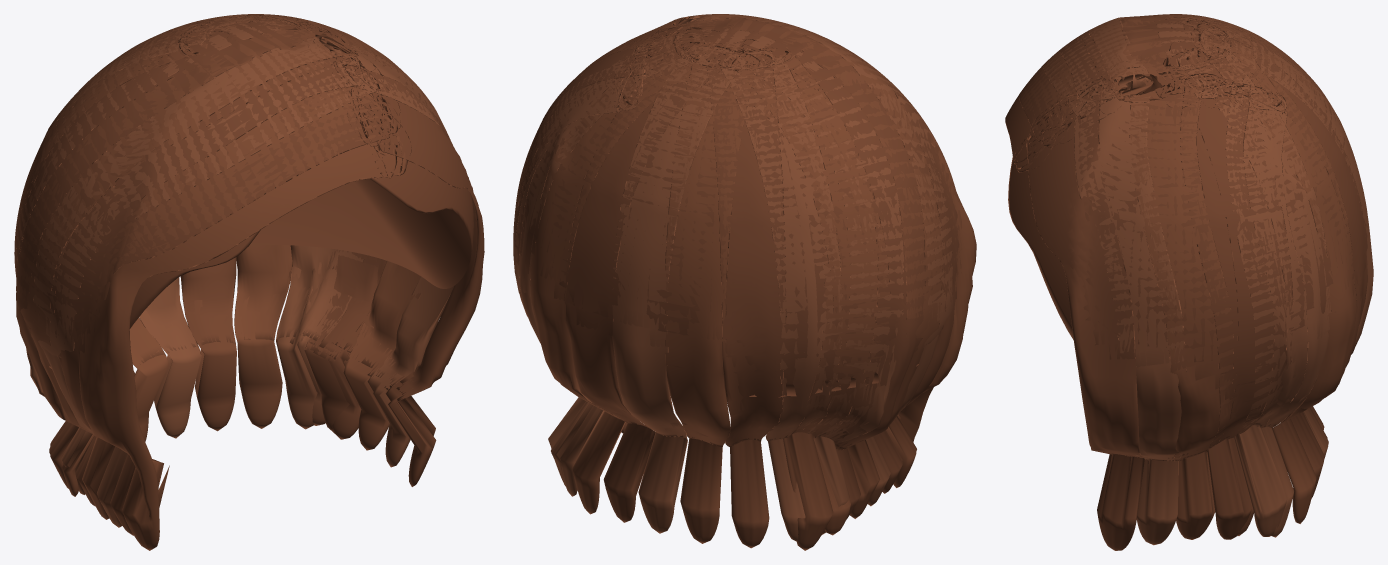
File: Feminine-side-sweep-covered-hair236.glb
3 views of the same model, side by side, from view 1: azimuth 30°, elevation 25°; view 2: azimuth 150°, elevation 25°; view 3: azimuth 270°, elevation 25° (orthographic). The views are drawn at different scales.
Parts seen in each view (by area): view 1: 226 hair / Hair / sculpted 0.001, 226 hair / Hair / sculpted 1.002, 226 hair / Hair / sculpted 2.001, 226 hair / Hair / sculpted 1.001; view 2: 226 hair / Hair / sculpted 0.001, 226 hair / Hair / sculpted 2.001, 226 hair / Hair / sculpted 1.002, 226 hair / Hair / sculpted 1.001; view 3: 226 hair / Hair / sculpted 1.002, 226 hair / Hair / sculpted 2.001, 226 hair / Hair / sculpted 0.001, 226 hair / Hair / sculpted 1.001.
Part boxes in pixels (x1,y1,x2,y2): 226 hair / Hair / sculpted 0.001: [14, 14, 429, 550]; 226 hair / Hair / sculpted 1.002: [14, 14, 484, 535]; 226 hair / Hair / sculpted 2.001: [14, 14, 453, 527]; 226 hair / Hair / sculpted 1.001: [14, 14, 473, 368]; 226 hair / Hair / sculpted 0.001: [529, 14, 976, 550]; 226 hair / Hair / sculpted 2.001: [513, 14, 953, 541]; 226 hair / Hair / sculpted 1.002: [513, 18, 961, 548]; 226 hair / Hair / sculpted 1.001: [514, 19, 959, 397]; 226 hair / Hair / sculpted 1.002: [1019, 14, 1367, 550]; 226 hair / Hair / sculpted 2.001: [1043, 14, 1373, 545]; 226 hair / Hair / sculpted 0.001: [1005, 14, 1357, 539]; 226 hair / Hair / sculpted 1.001: [1008, 14, 1367, 385].
Bounding box in the file's own units: 0.9585 × 1.04 × 0.775.
